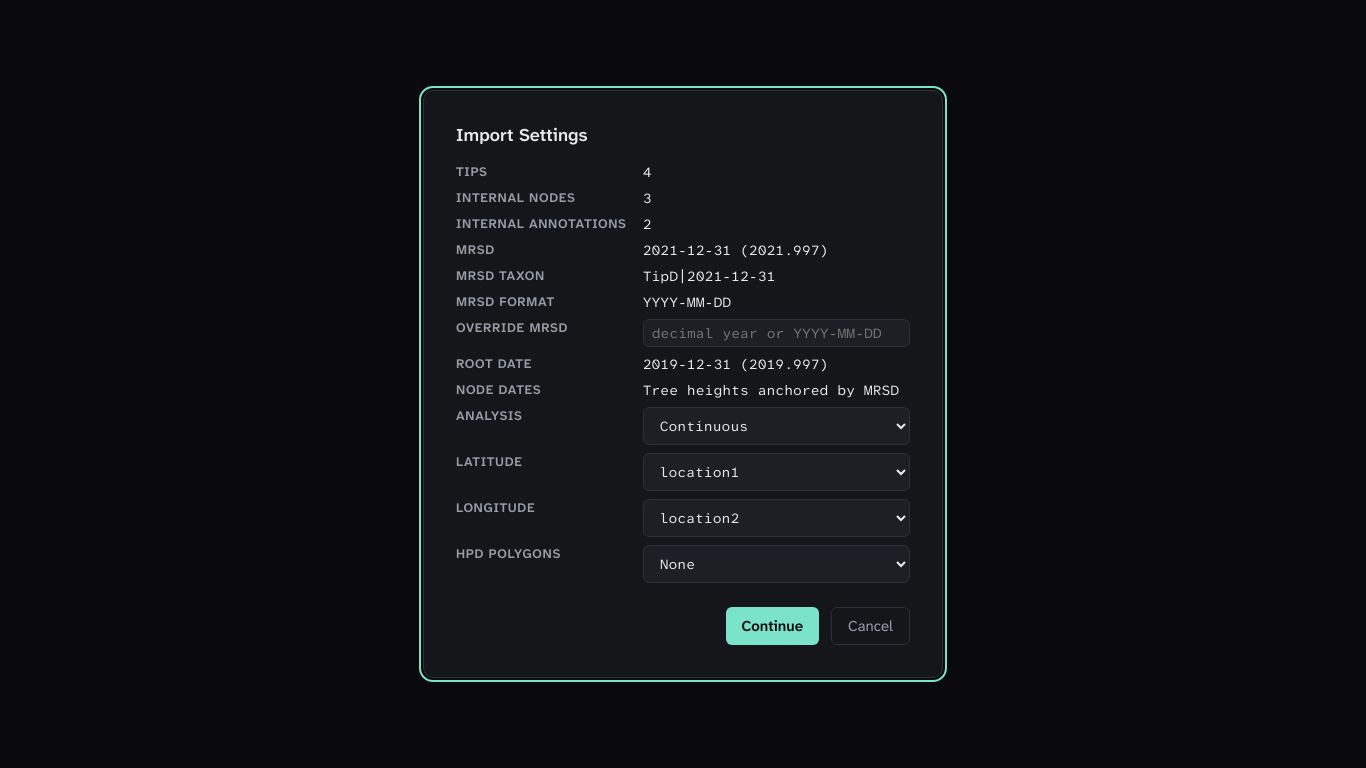
Scenario: ImportSettingsModal — MRSD provenance › blocks confirm and shows an error for an unparseable override
In the field with test id "import-mrsd-override": (776, 333) x1=643 y1=319 x2=910 y2=347, type "not-a-date"
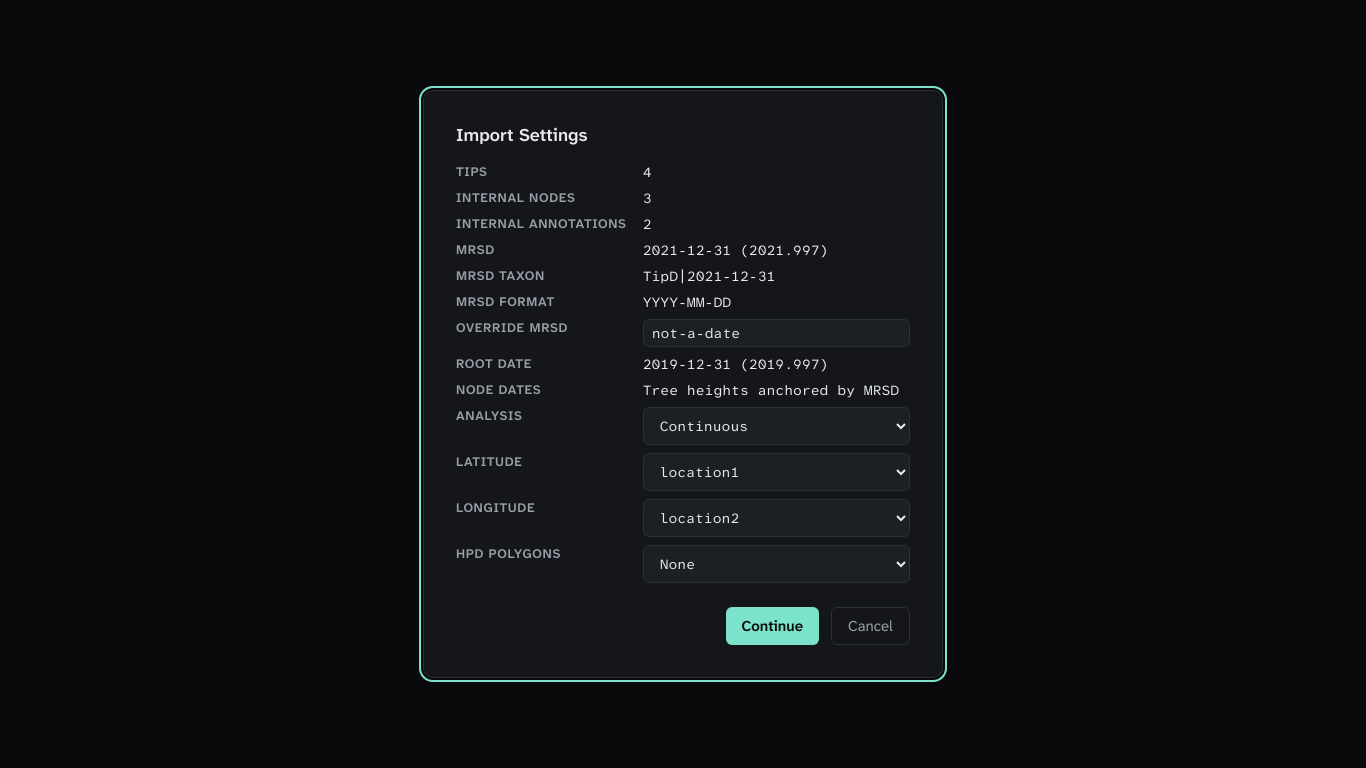
Click the button with test id "import-settings-confirm": click(772, 626) x1=726 y1=607 x2=819 y2=645
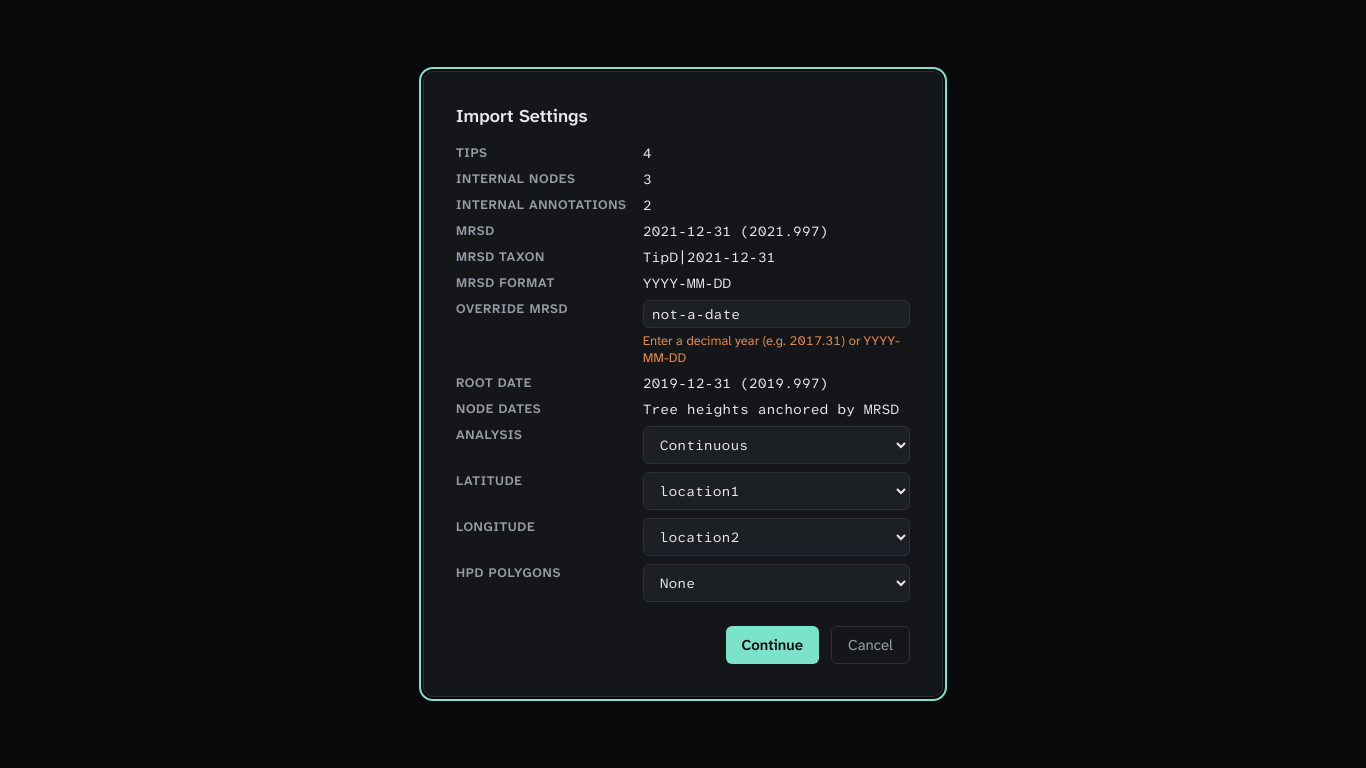
Result: the message "Enter a decimal year (e.g. 2017.31) or YYYY-MM-DD" is shown at x1=643 y1=332 x2=910 y2=366
